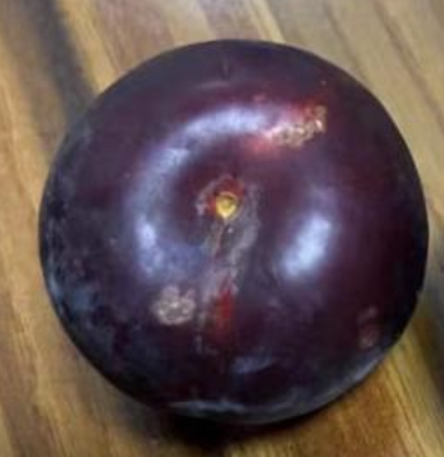plum_B: (38, 40, 429, 426)
